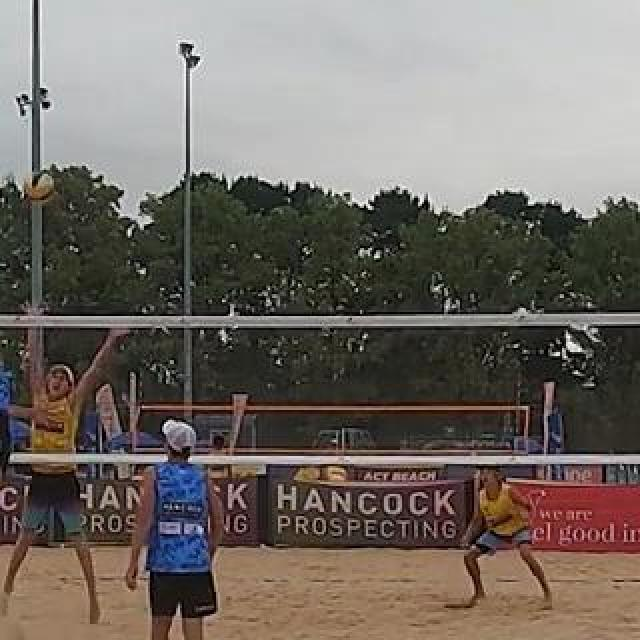volleyball: (26, 175, 56, 203)
